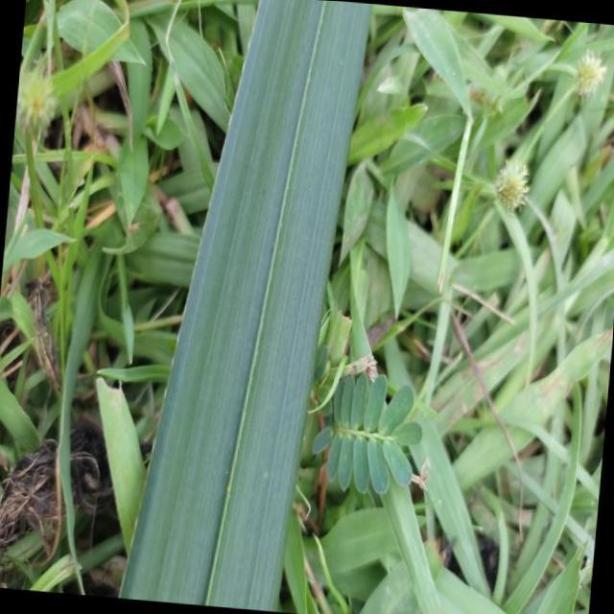Healthy: (116, 1, 372, 614)
